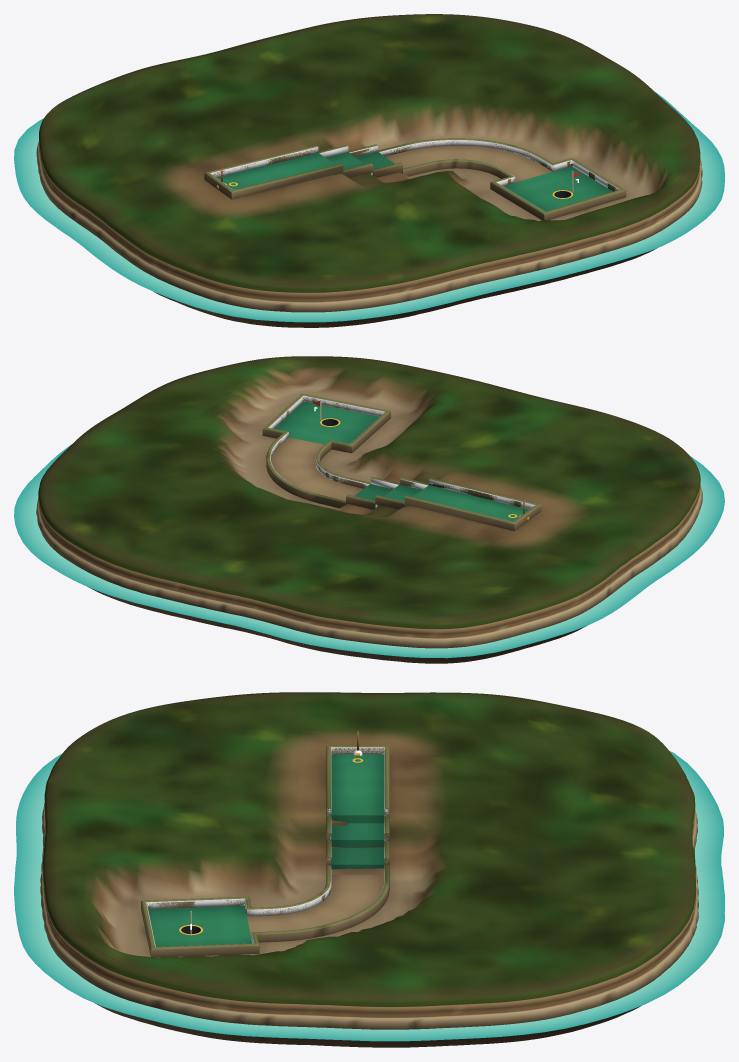
Rendered from course-07.glb.
3 views of the same model, one above another, from view 1: azimuth 30°, elevation 25°; view 2: azimuth 150°, elevation 25°; view 3: azimuth 270°, elevation 25° (orthographic). The views are drawn at different scales.
Visible parts, largest first — view 1: scenery-matte, water-shore, rail-trim, floor-felt, rail-stone, floor-sand; view 2: scenery-matte, water-shore, rail-trim, floor-felt, floor-sand, rail-stone; view 3: scenery-matte, water-shore, floor-felt, rail-trim, floor-sand, rail-stone.
Boxes of the visible parts, x1,y1,x2,y2 form: scenery-matte: (36, 14, 702, 327); water-shore: (14, 91, 724, 322); rail-trim: (204, 138, 626, 220); floor-felt: (217, 151, 612, 211); rail-stone: (210, 140, 619, 211); floor-sand: (385, 146, 551, 182); scenery-matte: (36, 356, 702, 663); water-shore: (14, 445, 724, 658); rail-trim: (262, 393, 541, 531); floor-felt: (274, 401, 528, 521); floor-sand: (271, 437, 363, 500); rail-stone: (268, 395, 535, 521); scenery-matte: (40, 692, 698, 1047); water-shore: (14, 751, 724, 1041); floor-felt: (148, 754, 384, 946); rail-trim: (141, 745, 389, 957); floor-sand: (247, 874, 384, 938); rail-stone: (146, 747, 388, 947).
Bounding box in the file's own units: 25.68 × 3.02 × 23.14.
